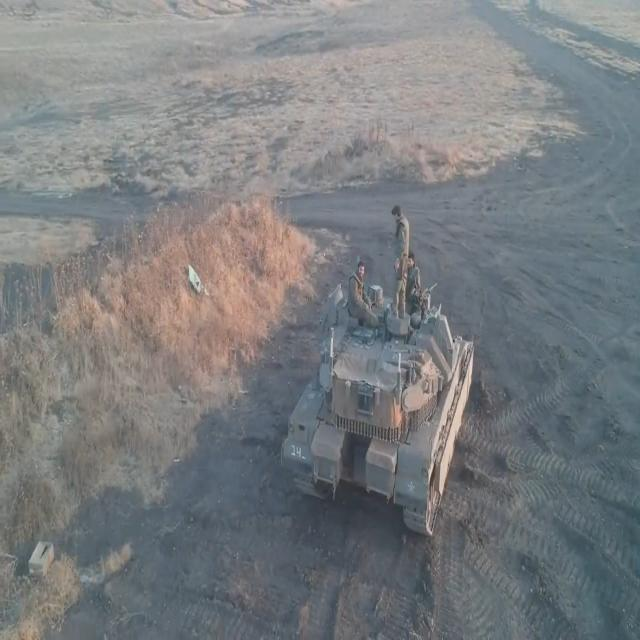tank: (283, 278, 491, 541)
